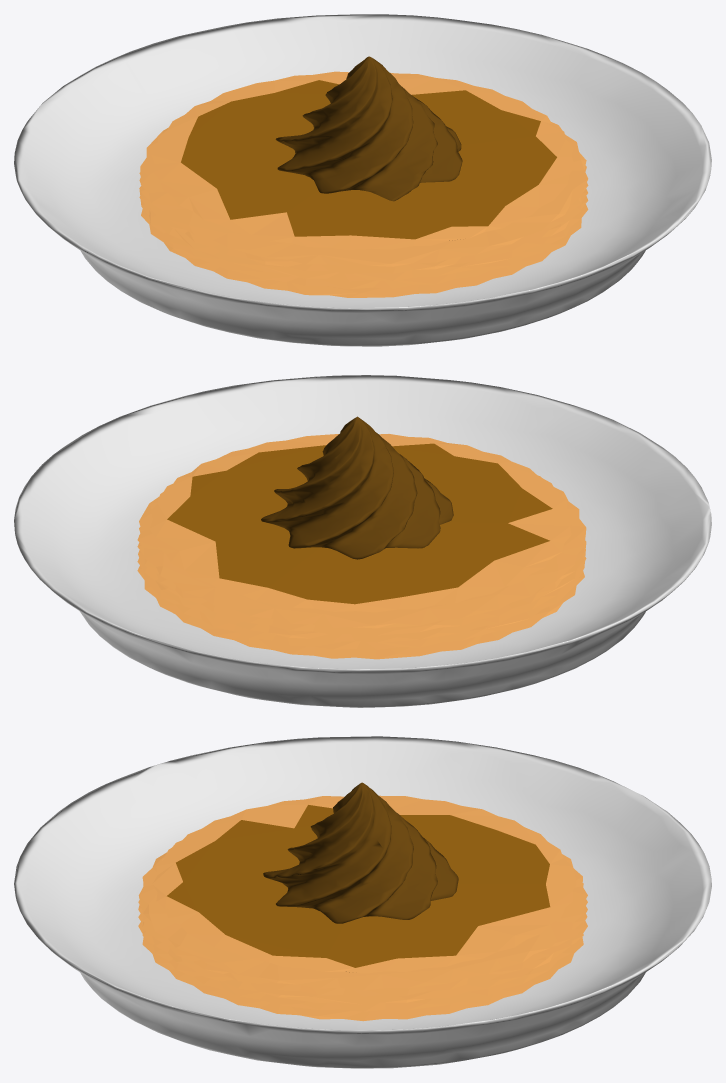
File: Panqueques con ddl.fbx
The picture shows the model from 3 angles, top to bottom: view 1: azimuth 30°, elevation 25°; view 2: azimuth 150°, elevation 25°; view 3: azimuth 270°, elevation 25°; orthographic projection.
Visible parts, largest first — view 1: Star.004; view 2: Star.004; view 3: Star.004.
Boxes of the visible parts, bbox=[...] form: Star.004: bbox=[14, 14, 711, 346]; Star.004: bbox=[14, 375, 711, 707]; Star.004: bbox=[14, 736, 711, 1068].
Size of the model in its own units: 226 by 60.08 by 226.
